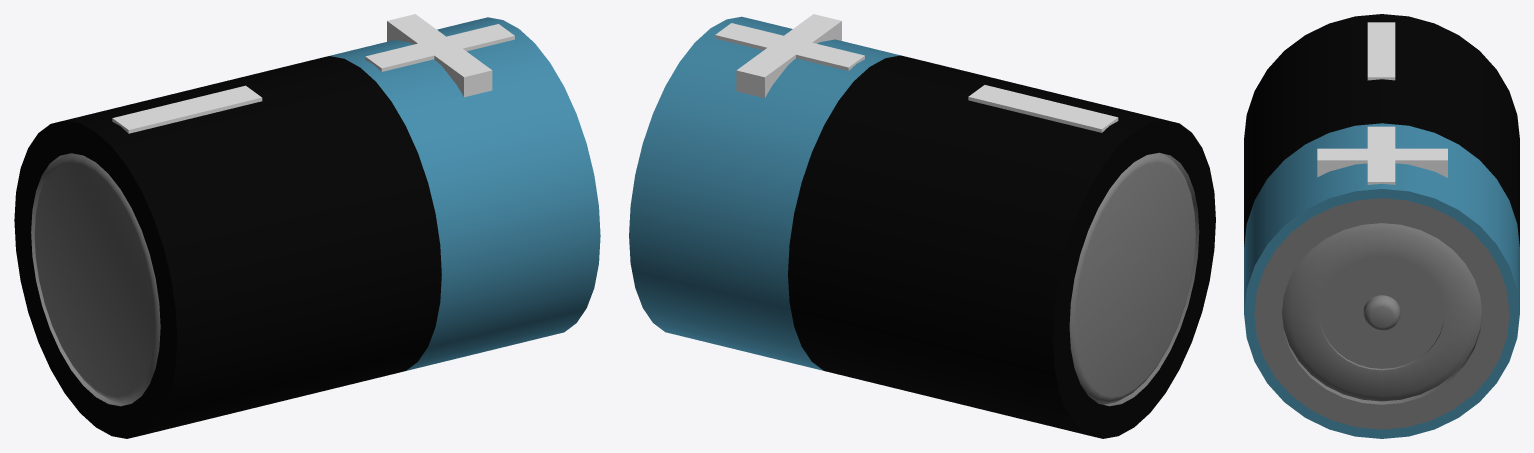
The model's file is battery.fbx.
3 views of the same model, side by side, from view 1: azimuth 30°, elevation 25°; view 2: azimuth 150°, elevation 25°; view 3: azimuth 270°, elevation 25° (orthographic). The views are drawn at different scales.
Parts seen in each view (by area): view 1: Cylinder, Cube.002, Cube.001, Cube; view 2: Cylinder, Cube.002, Cube.001, Cube; view 3: Cylinder, Cube.002, Cube, Cube.001.
Boxes of the visible parts, bbox=[...] form: Cylinder: bbox=[14, 17, 600, 438]; Cube.002: bbox=[387, 14, 492, 97]; Cube.001: bbox=[112, 85, 262, 133]; Cube: bbox=[365, 24, 514, 71]; Cylinder: bbox=[629, 16, 1215, 438]; Cube.002: bbox=[736, 14, 841, 98]; Cube.001: bbox=[968, 85, 1118, 132]; Cube: bbox=[715, 23, 864, 70]; Cylinder: bbox=[1244, 14, 1519, 438]; Cube.002: bbox=[1317, 148, 1447, 177]; Cube: bbox=[1367, 126, 1395, 184]; Cube.001: bbox=[1367, 22, 1395, 80].
Bounding box in the file's own units: 306 × 201 × 200.
